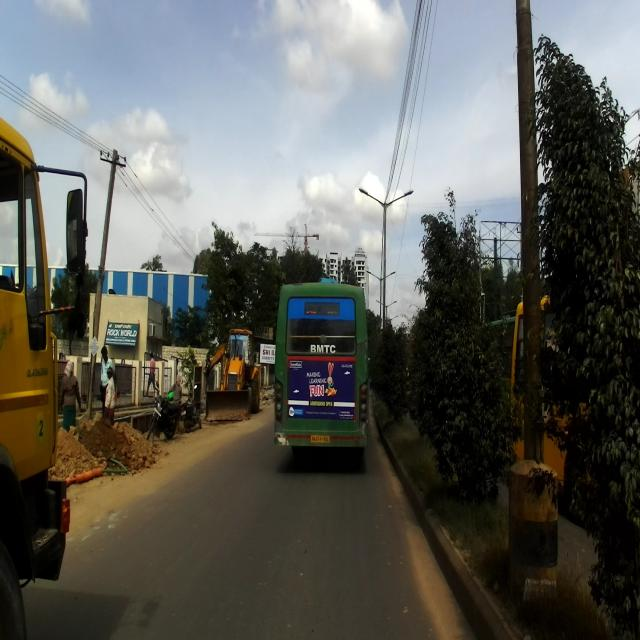bus: (272, 278, 368, 458)
motorcycle: (147, 383, 181, 440)
